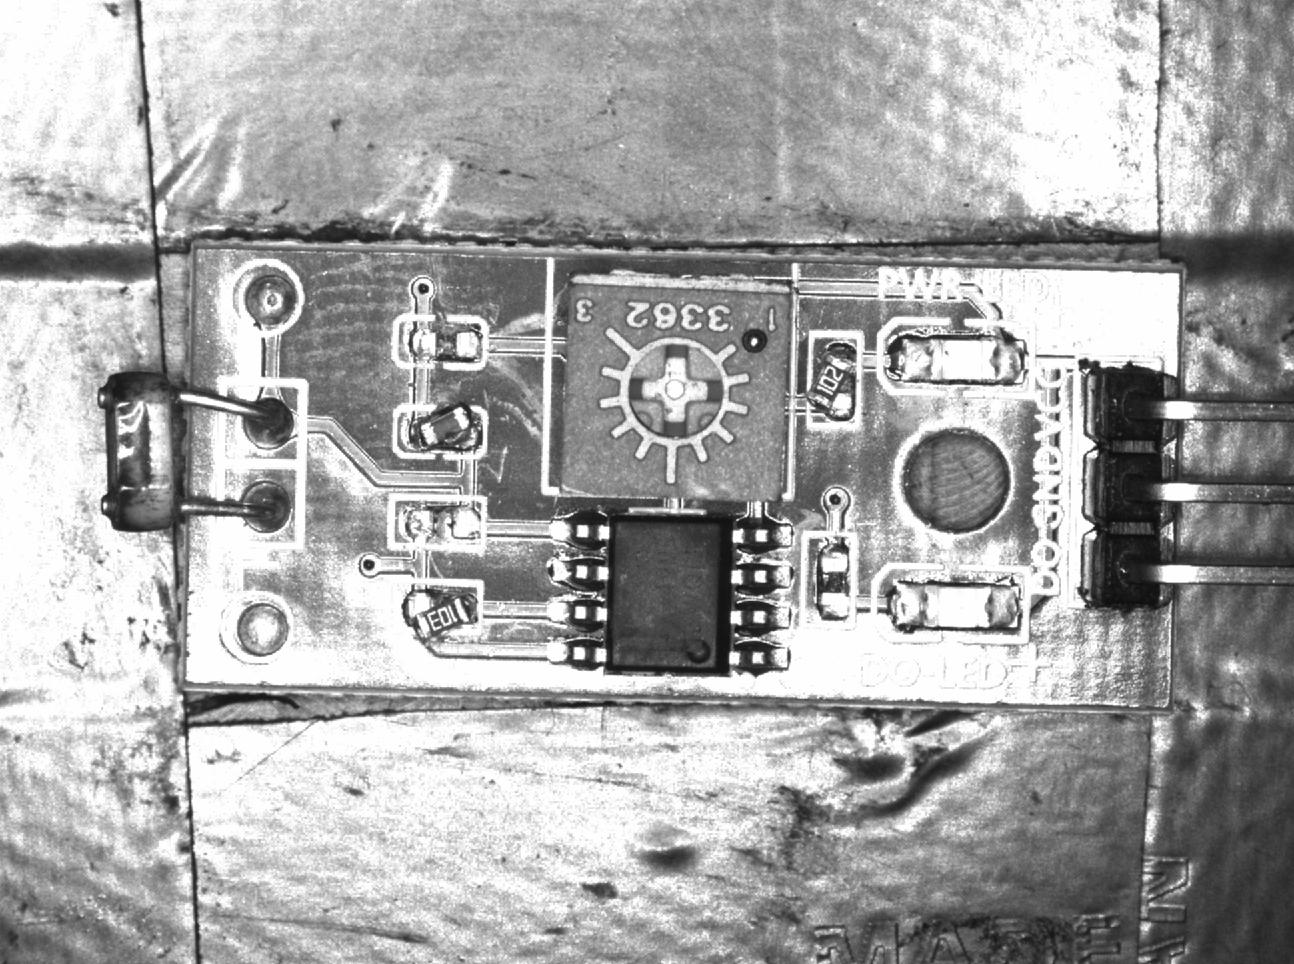lifted: (395, 580, 483, 642), (806, 332, 861, 427), (396, 405, 487, 461)
miss: (396, 314, 488, 373), (386, 495, 487, 548), (804, 531, 855, 625)
